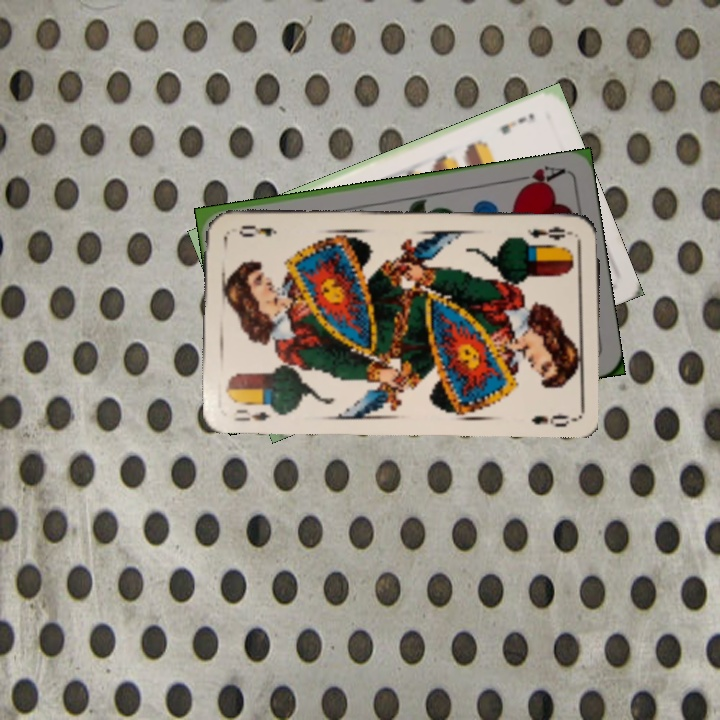E7: (496, 109, 538, 137)
EO: (524, 222, 576, 243), (230, 405, 274, 424)
HA: (508, 162, 567, 193)
